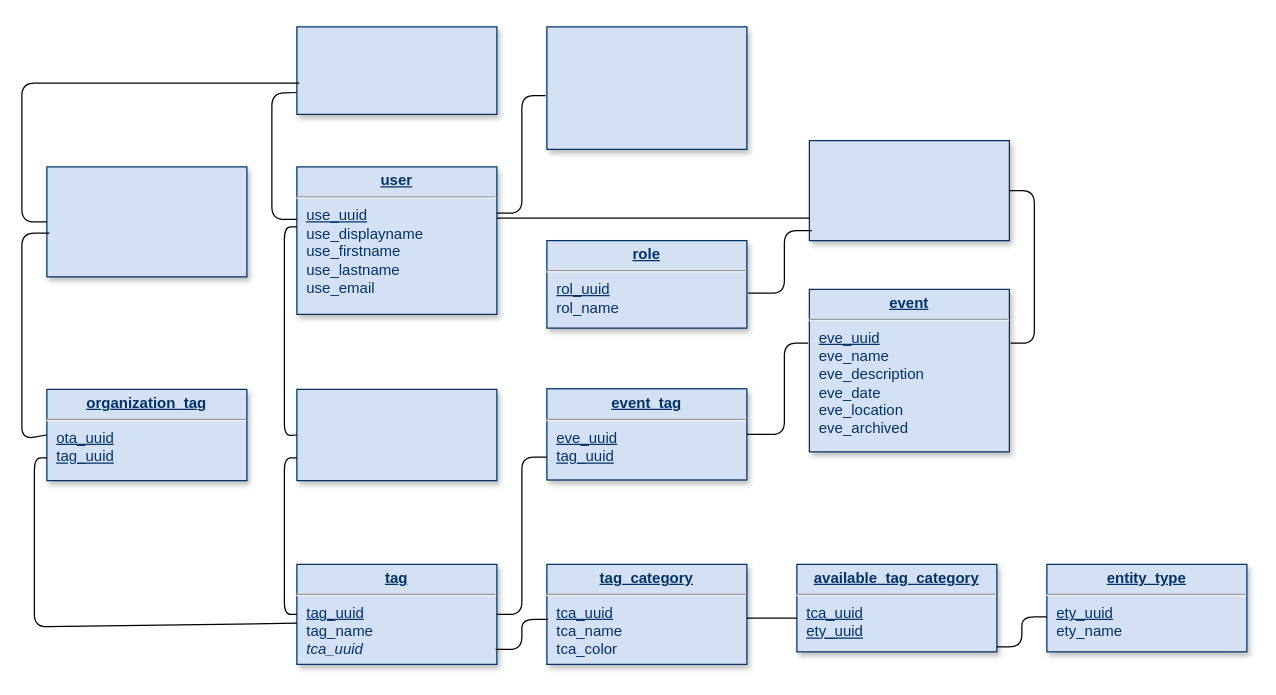
Image size: 1276x695. Some labels were removed from this diagram. The centre of each missing label's shape, as x and y in pixels:
event_request ere_uuid use_uuid ere_name ere_description: the point at 647,89
organization org_uuid org_name org_description: the point at 147,223
user_event_participation eve_uuid use_uuid rol_uuid: the point at 910,191
user_organization org_uuid use_uuid: the point at 397,72
user_tag use_uuid tag_uuid: the point at 397,436
